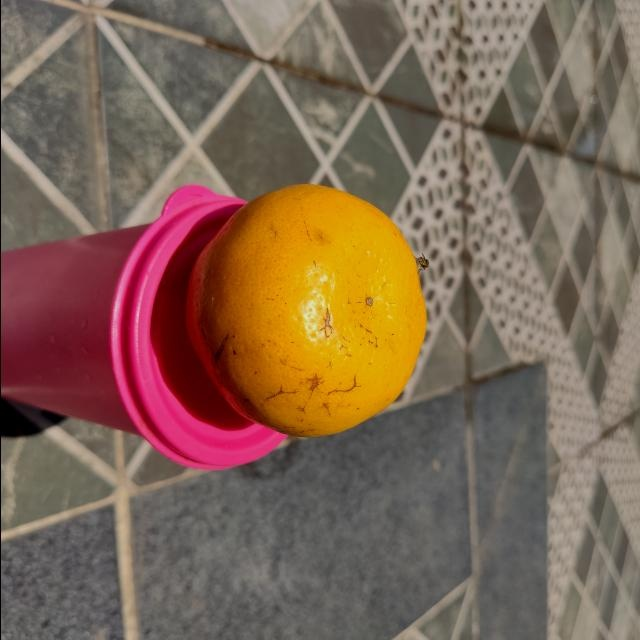agrume: (179, 183, 425, 445)
